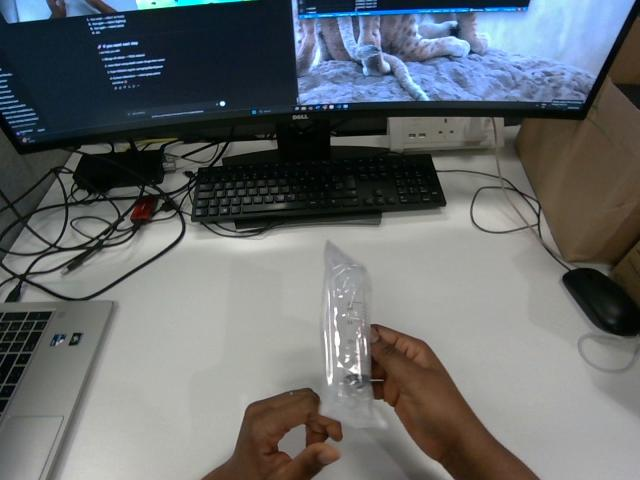syringe: (321, 242, 385, 427)
